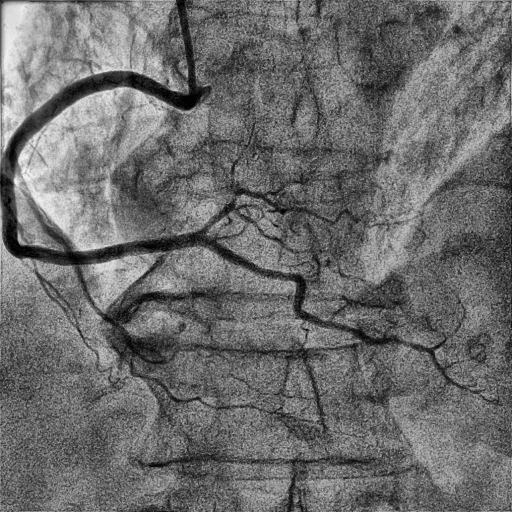pborca: (199, 189, 357, 236)
pda: (202, 236, 480, 395)
rca: (0, 70, 201, 265)
